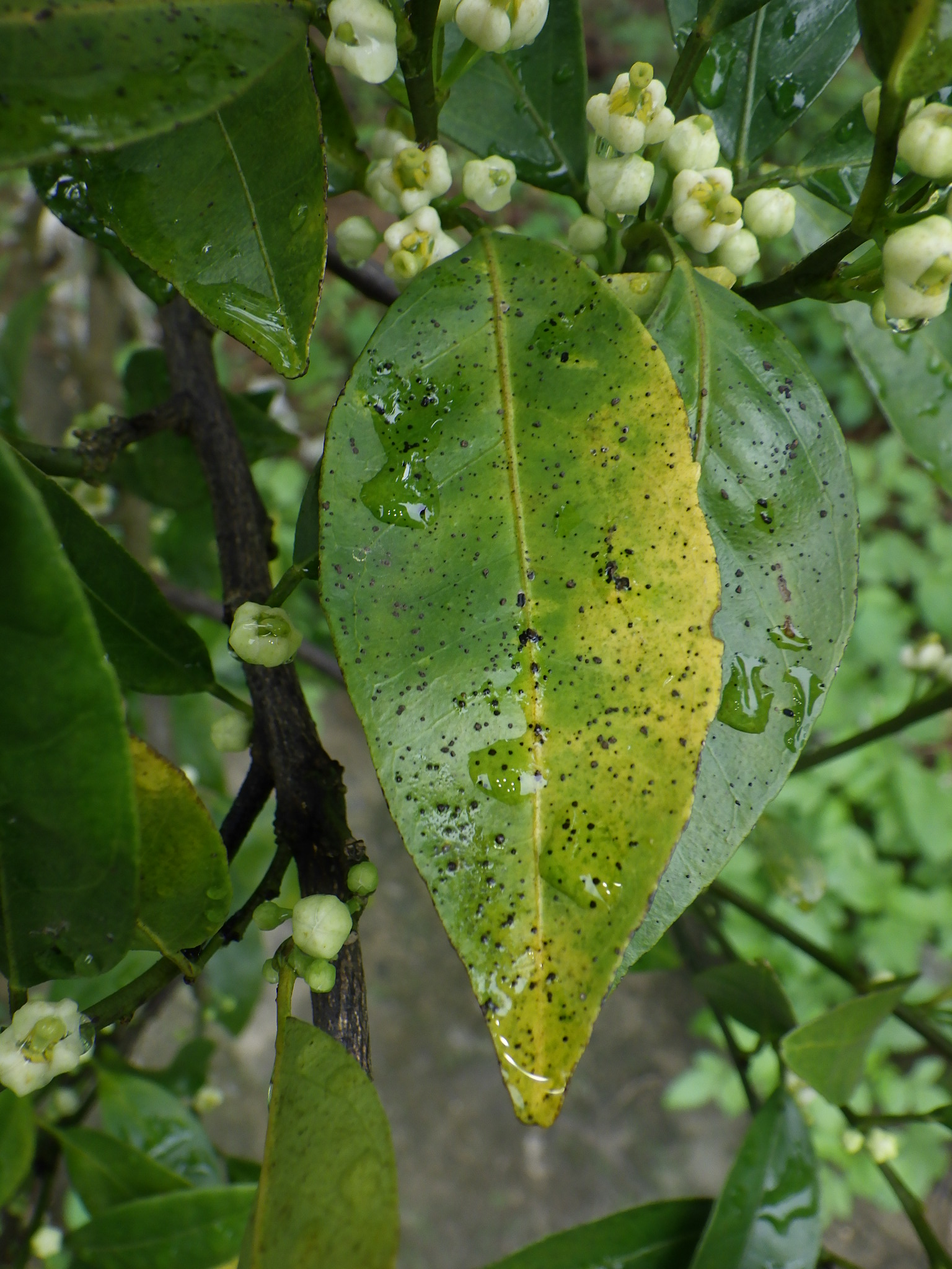Oily_Spot: (318, 234, 721, 1125)
